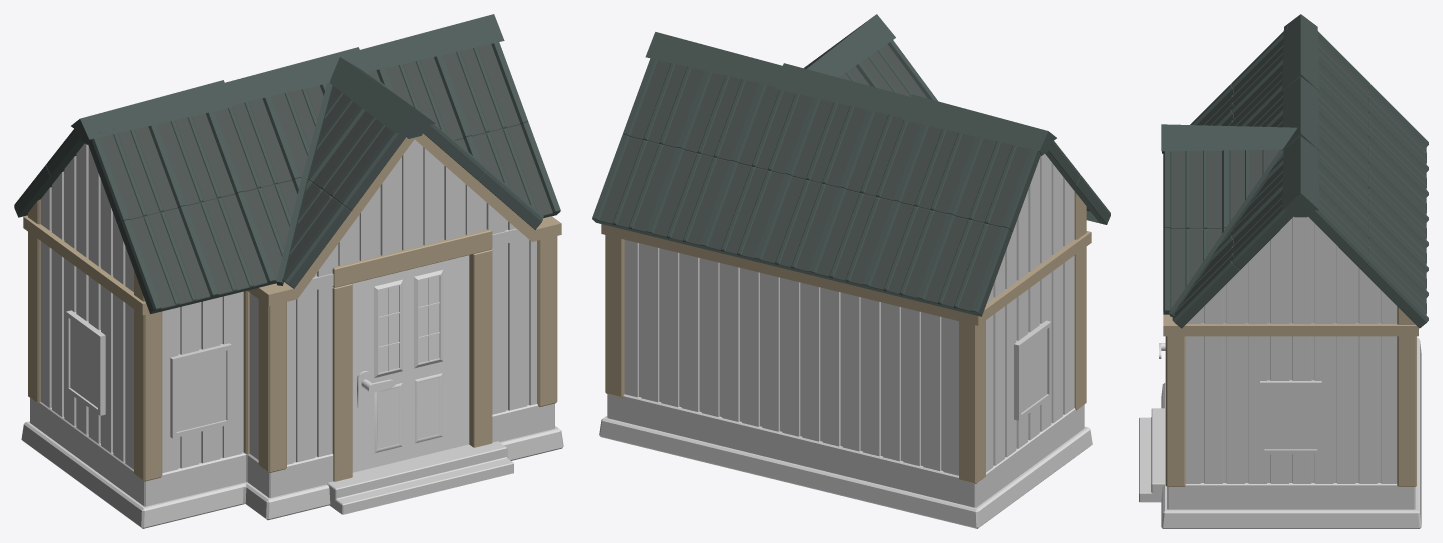
File: Maison_2.fbx
The picture shows the model from 3 angles, left to right: view 1: azimuth 30°, elevation 25°; view 2: azimuth 150°, elevation 25°; view 3: azimuth 270°, elevation 25°; orthographic projection. The views are drawn at different scales.
Parts seen in each view (by area): view 1: Cube.001, Cube.002; view 2: Cube.001; view 3: Cube.001.
Boxes of the visible parts, x1,y1,x2,y2 form: Cube.001: (14,14,563,528); Cube.002: (352,255,469,472); Cube.001: (592,14,1110,528); Cube.001: (1139,14,1428,528).
Size of the model in its own units: 445 by 386 by 299.
